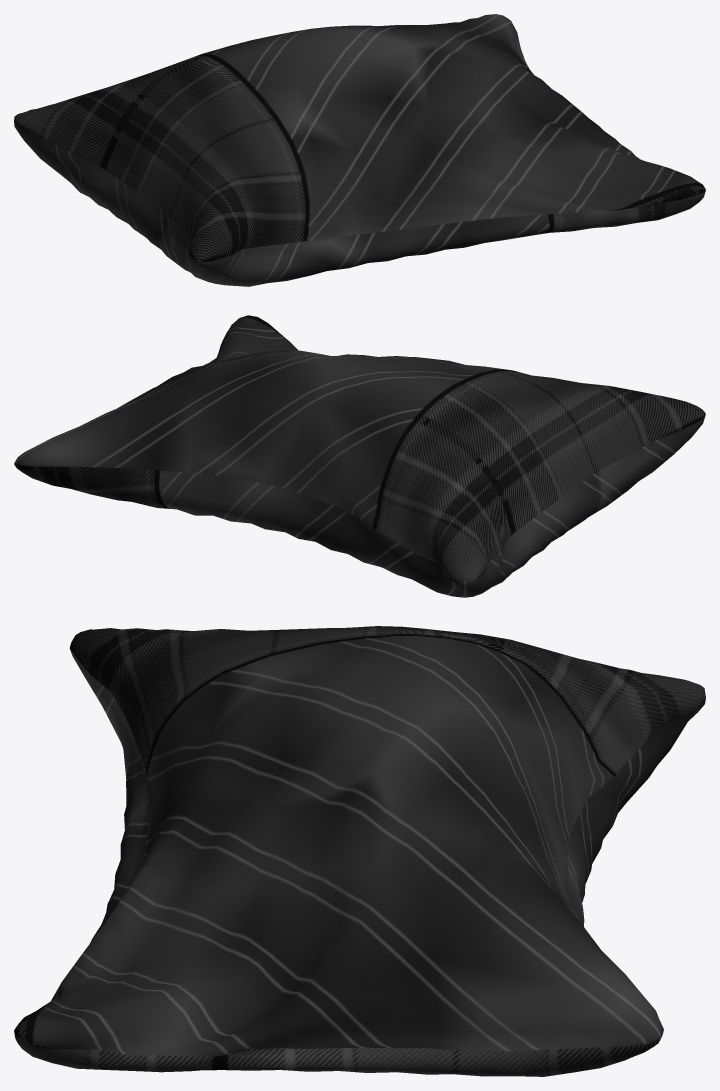
File: bedblack2.obj
3 renders of one model, top to bottom at view 1: azimuth 30°, elevation 25°; view 2: azimuth 150°, elevation 25°; view 3: azimuth 270°, elevation 25°, orthographic. The views are drawn at different scales.
Parts seen in each view (by area): view 1: Box007; view 2: Box007; view 3: Box007.
Boxes of the visible parts, box(x1,y1,x2,y2) form: Box007: box(14, 14, 705, 286); Box007: box(14, 315, 705, 597); Box007: box(14, 626, 705, 1076).
Size of the model in its own units: 52.72 by 14.28 by 42.34.
